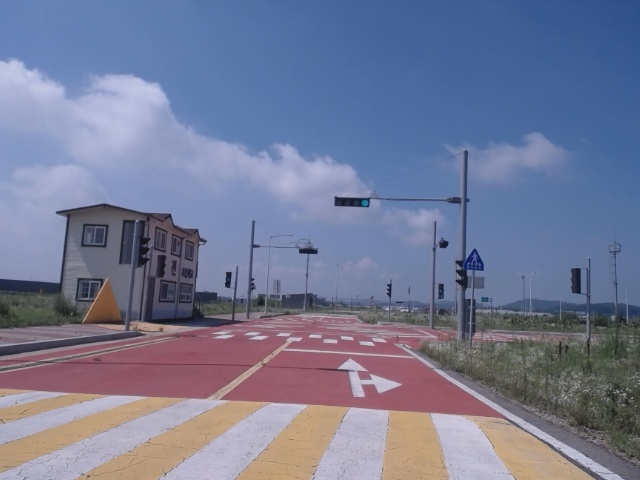straight_green_4: (335, 198, 369, 208)
